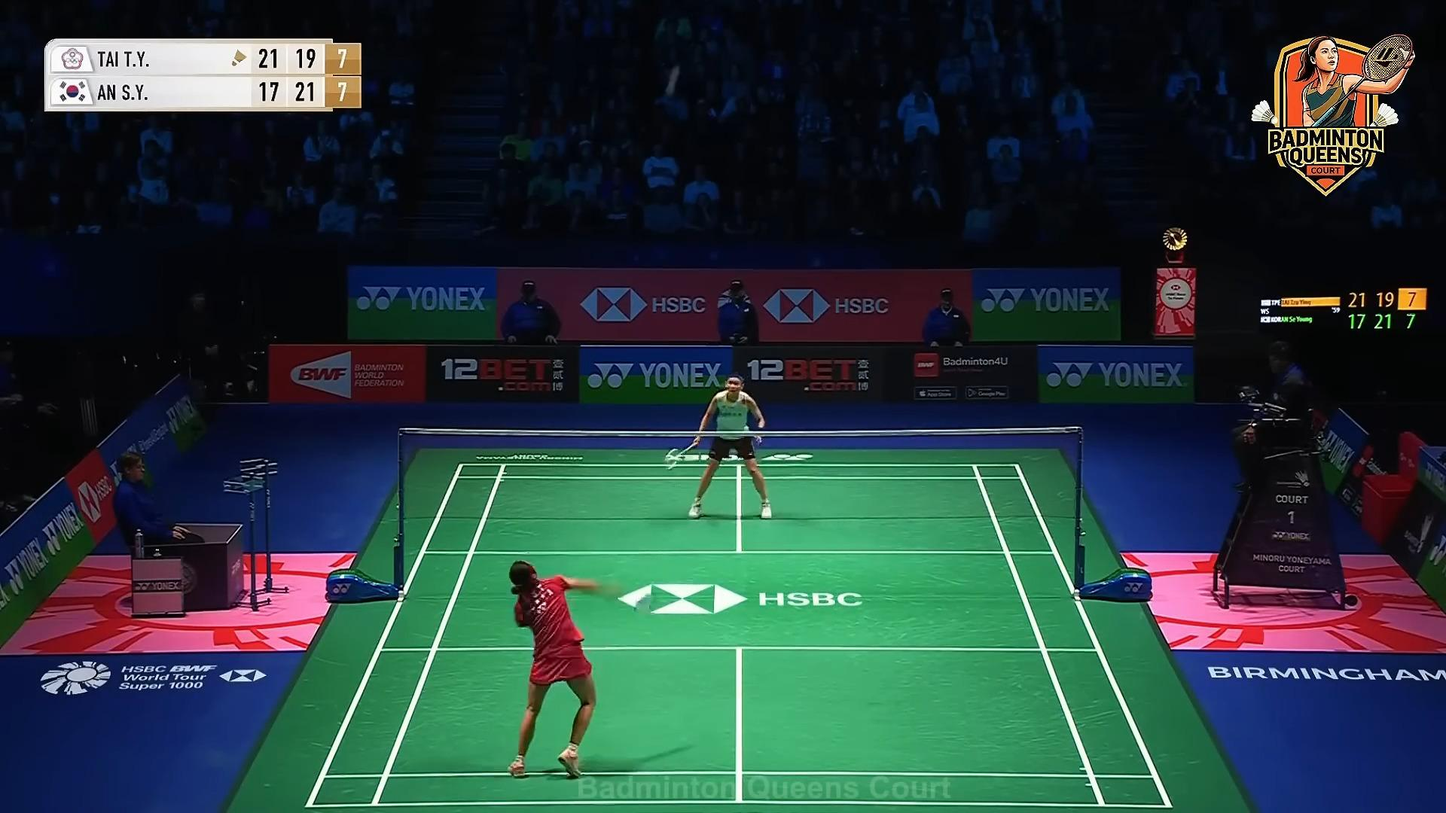shuttlecock: (665, 64, 682, 98)
